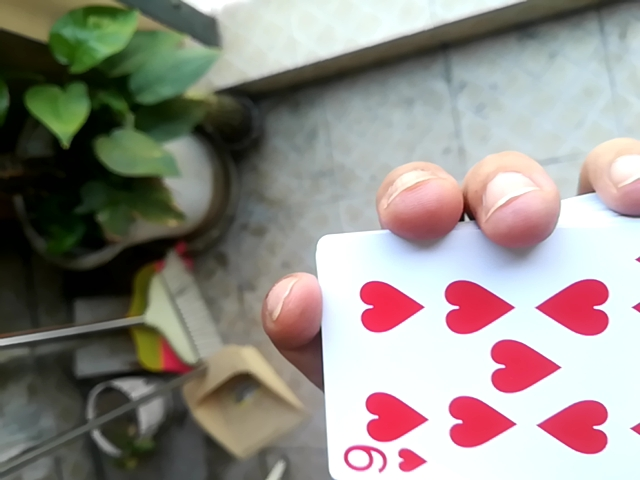hx 9: (300, 161, 639, 476)
